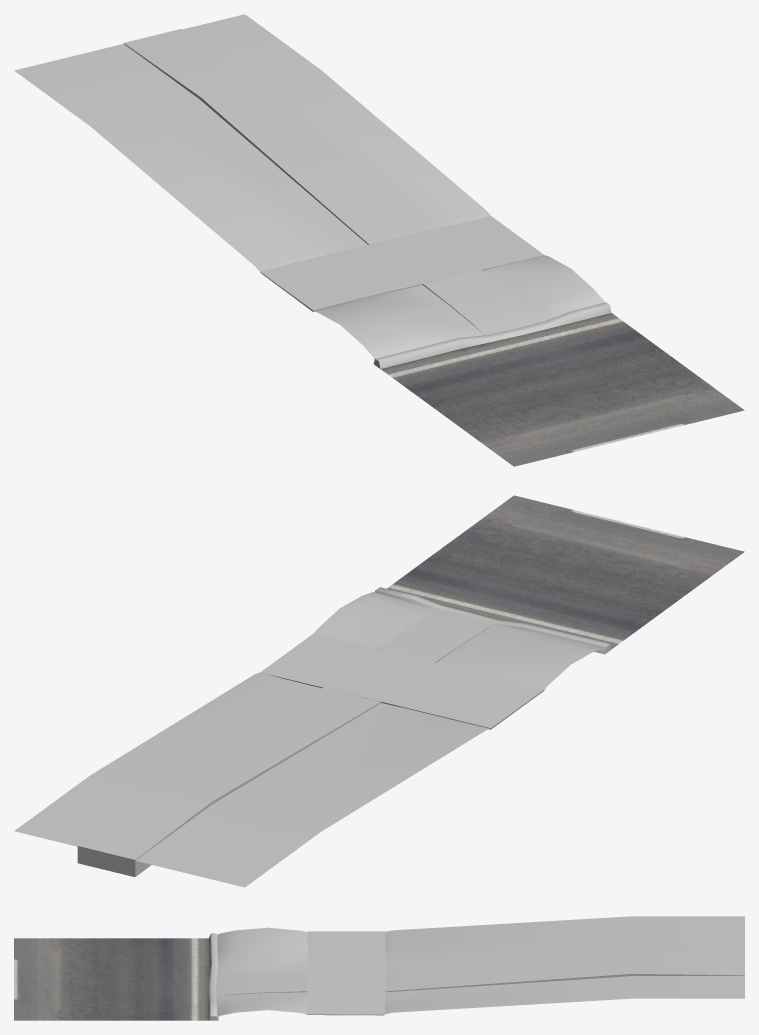
The model's file is Road_Walkway.FBX.
The picture shows the model from 3 angles, top to bottom: view 1: azimuth 30°, elevation 25°; view 2: azimuth 150°, elevation 25°; view 3: azimuth 270°, elevation 25°; orthographic projection. The views are drawn at different scales.
Visible parts, largest first — view 1: Road_Walkway; view 2: Road_Walkway; view 3: Road_Walkway.
Boxes of the visible parts, x1,y1,x2,y2 form: Road_Walkway: [14, 14, 744, 466]; Road_Walkway: [14, 495, 744, 887]; Road_Walkway: [14, 916, 744, 1020].
Bounding box in the file's own units: 401 × 69.66 × 1500.
